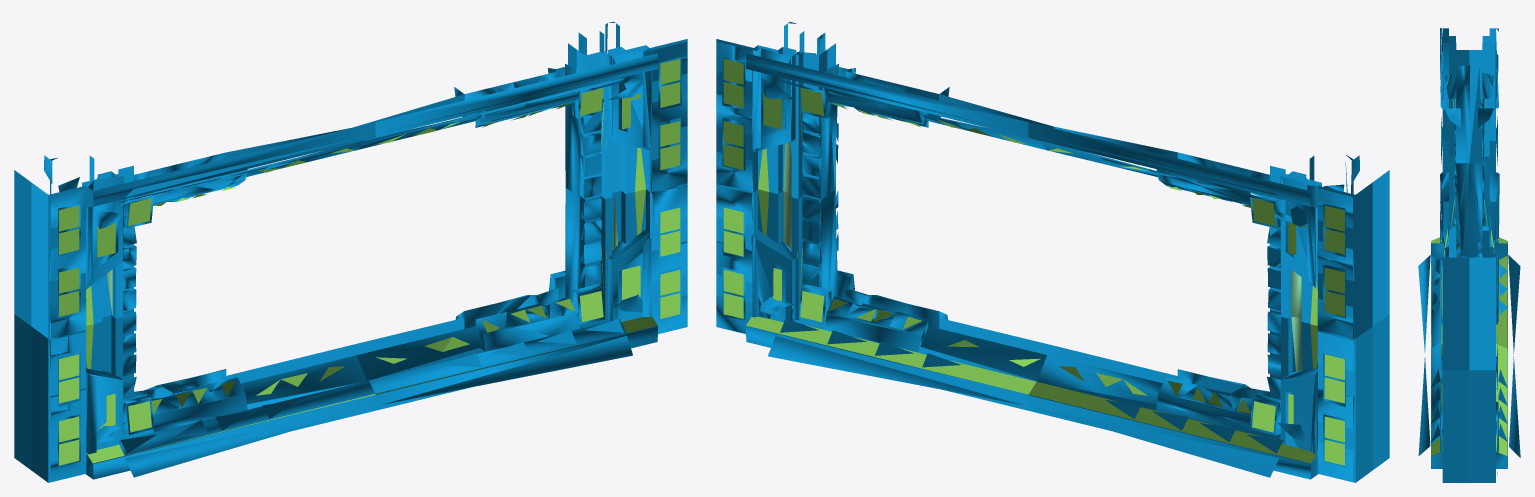
File: grimhex_building_3_floor_landingpad_corner_72x32_a_lod4.glb
3 views of the same model, side by side, from view 1: azimuth 30°, elevation 25°; view 2: azimuth 150°, elevation 25°; view 3: azimuth 270°, elevation 25° (orthographic). The views are drawn at different scales.
Bounding box in the file's own units: 102 × 45.14 × 18.12.
